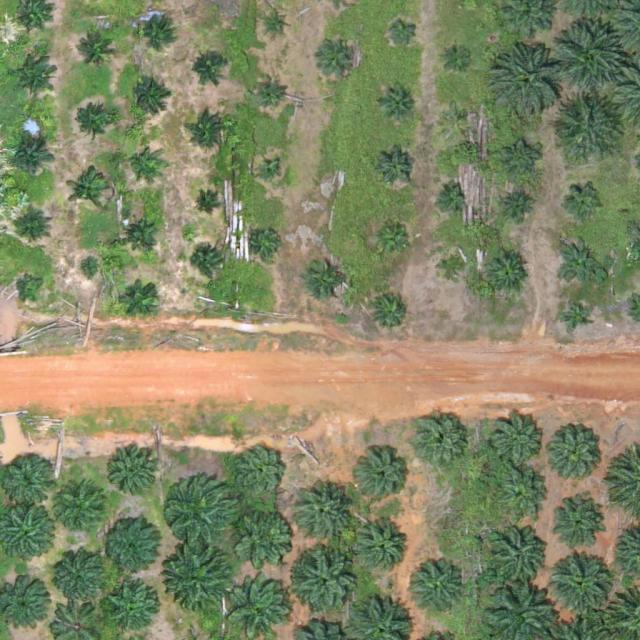Healthy: (164, 474, 242, 553), (489, 42, 567, 121), (556, 20, 627, 91), (550, 92, 621, 163), (292, 549, 362, 620), (544, 422, 606, 485), (404, 559, 466, 622), (293, 482, 355, 545), (234, 502, 297, 564), (171, 548, 233, 611), (552, 553, 614, 615), (487, 524, 549, 586), (104, 519, 159, 575), (548, 494, 603, 549), (490, 414, 545, 469), (412, 413, 467, 468), (351, 519, 406, 574), (357, 450, 412, 505), (55, 481, 110, 536), (109, 445, 164, 500), (498, 466, 552, 521), (235, 448, 289, 503), (67, 168, 114, 216)
Small: (53, 548, 108, 603), (11, 54, 58, 102), (74, 26, 121, 74), (304, 256, 351, 304), (72, 105, 119, 152), (10, 137, 57, 184), (484, 250, 531, 297), (557, 239, 604, 286), (137, 10, 177, 50), (122, 213, 162, 253), (372, 293, 412, 333), (322, 38, 362, 77), (191, 49, 230, 89), (130, 78, 170, 117), (123, 279, 162, 319), (15, 210, 54, 250), (377, 148, 416, 188), (502, 140, 541, 180), (567, 183, 606, 223), (372, 220, 412, 259), (191, 112, 230, 151), (377, 83, 416, 122), (506, 189, 537, 221), (561, 302, 592, 334), (442, 39, 473, 71), (441, 100, 472, 132), (435, 181, 466, 213), (389, 16, 420, 48), (18, 272, 49, 304), (128, 146, 159, 177), (191, 248, 222, 279), (254, 228, 285, 259), (438, 253, 469, 284), (255, 77, 286, 108), (265, 13, 289, 37), (259, 162, 283, 186), (77, 258, 101, 282), (194, 194, 217, 218)
